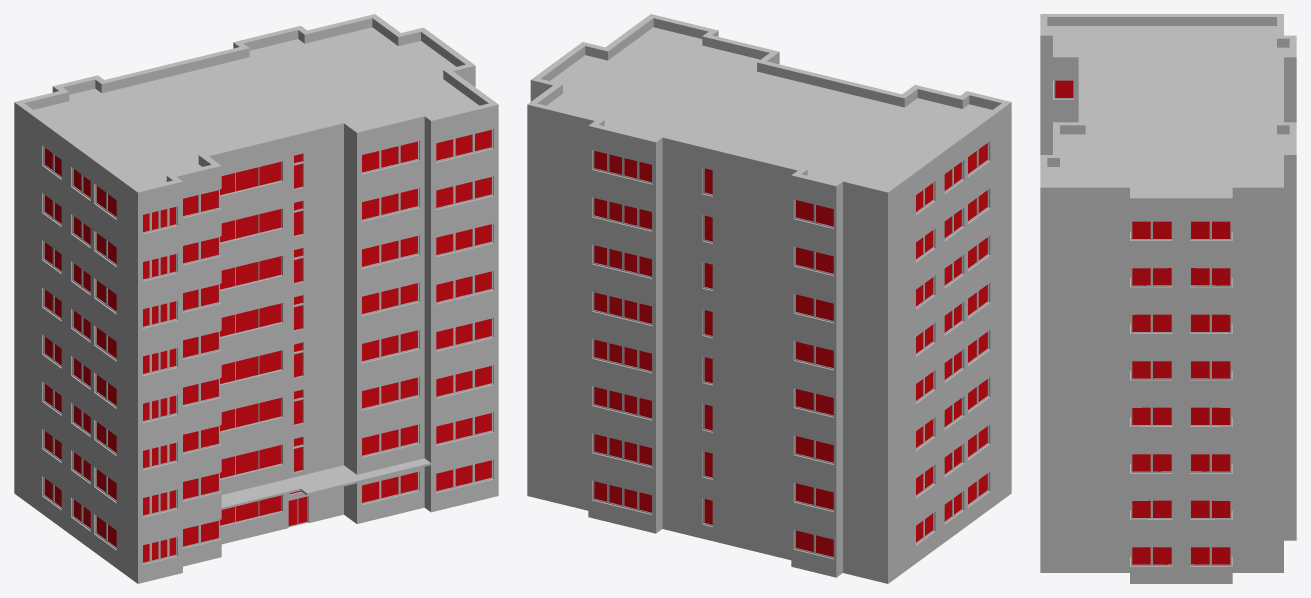
File: SM_House_01.gltf
3 renders of one model, left to right at view 1: azimuth 30°, elevation 25°; view 2: azimuth 150°, elevation 25°; view 3: azimuth 270°, elevation 25°, orthographic.
Visible parts, largest first — view 1: House_01; view 2: House_01; view 3: House_01.
Part boxes in pixels (x1,y1,x2,y2): House_01: [14, 14, 498, 583]; House_01: [527, 14, 1011, 583]; House_01: [1040, 14, 1296, 583].
Size of the model in its own units: 34 by 33.16 by 20.
